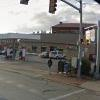Traffic light: (42, 0, 64, 22)
